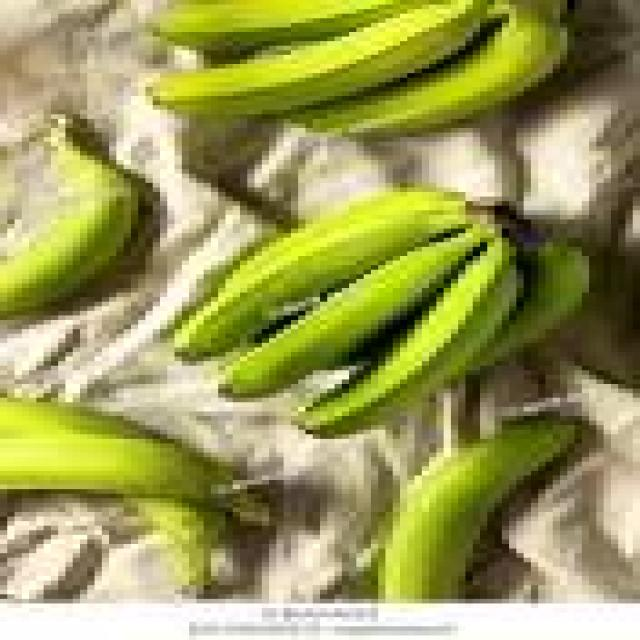banana: (175, 188, 472, 361), (226, 224, 487, 397), (299, 238, 523, 438), (153, 0, 487, 118), (379, 416, 581, 603), (291, 0, 567, 132), (0, 119, 138, 315), (0, 398, 232, 502), (0, 398, 232, 493), (0, 435, 218, 502), (153, 0, 421, 54), (480, 243, 589, 365), (131, 499, 225, 589)
